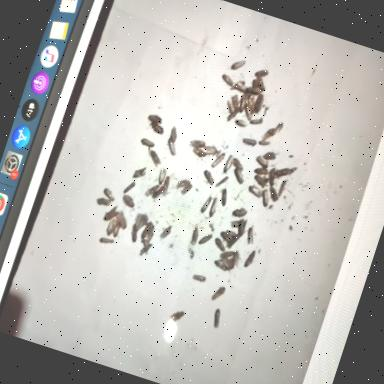pbw: (102, 202, 121, 224), (130, 211, 148, 234), (113, 208, 130, 231), (225, 230, 242, 252), (243, 94, 260, 115), (197, 142, 219, 158), (272, 164, 291, 182), (146, 150, 164, 168), (251, 92, 265, 115), (189, 146, 209, 162), (164, 137, 180, 157), (224, 104, 240, 124), (210, 150, 226, 170), (265, 166, 280, 187), (212, 258, 233, 273), (158, 219, 173, 240), (159, 175, 173, 197), (240, 103, 256, 122), (138, 240, 153, 260), (207, 196, 220, 219), (140, 219, 153, 242), (200, 169, 217, 186), (230, 166, 246, 184), (132, 164, 148, 182), (210, 284, 226, 302), (265, 185, 281, 203), (148, 120, 166, 136), (260, 124, 276, 142), (252, 174, 270, 190), (222, 154, 235, 176), (236, 92, 249, 114), (243, 226, 257, 246), (258, 188, 272, 208), (210, 308, 224, 328), (253, 154, 270, 170), (168, 308, 185, 324), (120, 194, 137, 210), (138, 137, 156, 152), (127, 224, 140, 244), (199, 194, 212, 214), (230, 56, 246, 72), (229, 78, 245, 94), (144, 182, 158, 200), (244, 84, 262, 98), (246, 184, 264, 198), (188, 136, 206, 150), (235, 218, 248, 237), (243, 249, 256, 268), (104, 218, 117, 237), (230, 156, 246, 171), (276, 179, 288, 199), (144, 225, 156, 245), (219, 248, 236, 262), (198, 231, 212, 248), (167, 124, 180, 142), (252, 165, 270, 178), (218, 188, 230, 207), (188, 228, 200, 247), (212, 237, 227, 252), (100, 187, 116, 201), (262, 149, 278, 163), (152, 184, 166, 200), (174, 178, 190, 192), (231, 206, 248, 219), (156, 168, 168, 186), (230, 250, 242, 268), (218, 74, 234, 87), (96, 195, 112, 208), (122, 180, 135, 196), (215, 174, 228, 190), (219, 257, 235, 270), (179, 182, 192, 198), (147, 112, 163, 125), (240, 136, 257, 148), (218, 230, 232, 244), (98, 235, 114, 247), (254, 67, 268, 80), (248, 116, 263, 128), (272, 121, 284, 136), (255, 77, 267, 92), (228, 94, 240, 108), (111, 222, 121, 238), (233, 118, 248, 128), (192, 273, 206, 283), (257, 138, 270, 148), (228, 219, 240, 229), (224, 229, 237, 238), (287, 166, 297, 176)
